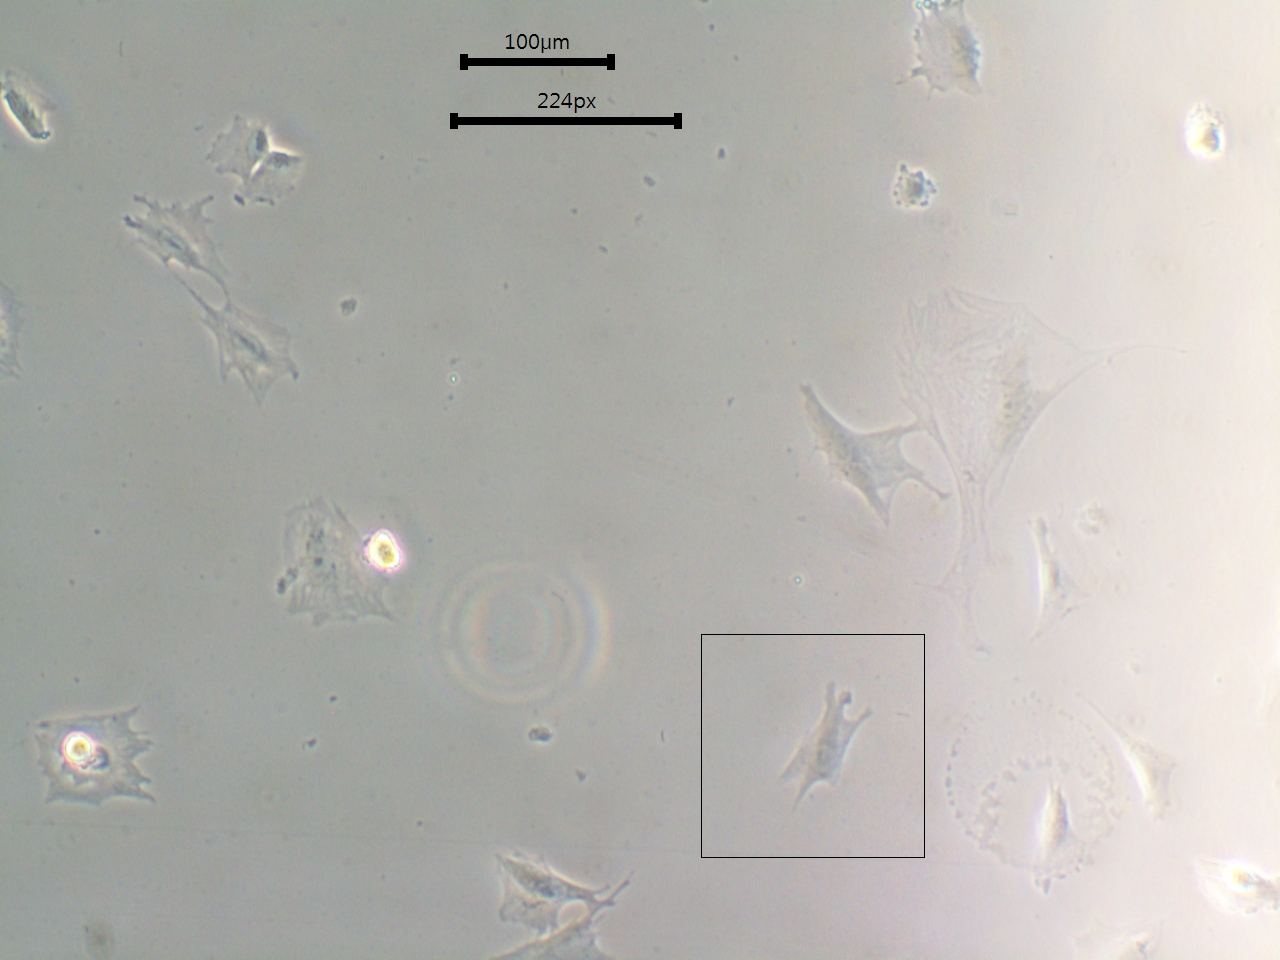dividing: (796, 377, 922, 532), (900, 1, 997, 109)
small-polygonal: (1021, 514, 1093, 650)
small-spread: (780, 677, 877, 808)
